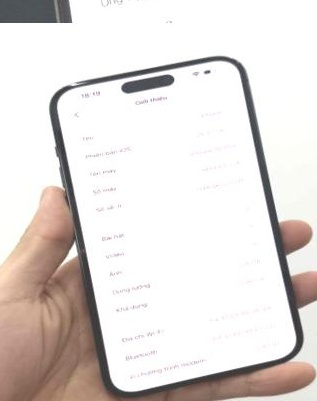scratch: (61, 73, 92, 90)
